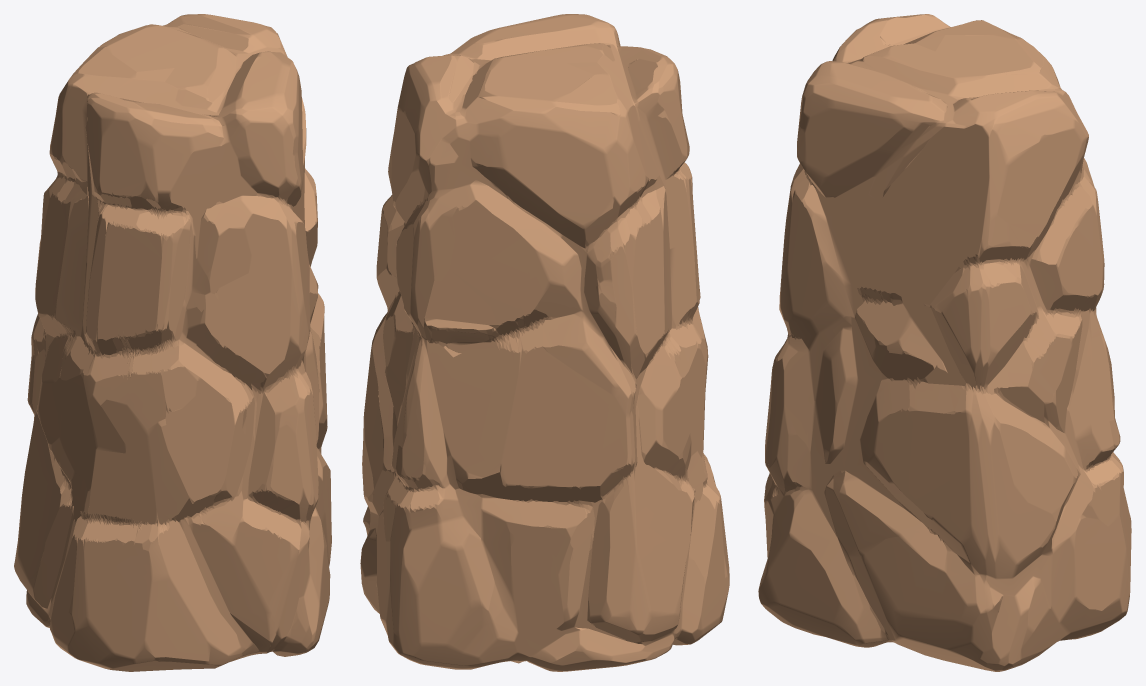
The picture shows the model from 3 angles, left to right: view 1: azimuth 30°, elevation 25°; view 2: azimuth 150°, elevation 25°; view 3: azimuth 270°, elevation 25°; orthographic projection.
Visible parts, largest first — view 1: Mesh_49_LOD0; view 2: Mesh_49_LOD0; view 3: Mesh_49_LOD0.
Part boxes in pixels (x1,y1,x2,y2): Mesh_49_LOD0: (14, 14, 331, 671); Mesh_49_LOD0: (360, 14, 729, 671); Mesh_49_LOD0: (758, 14, 1131, 671).
Size of what is drawn, in the model's own units: 1834 by 3149 by 1933.
